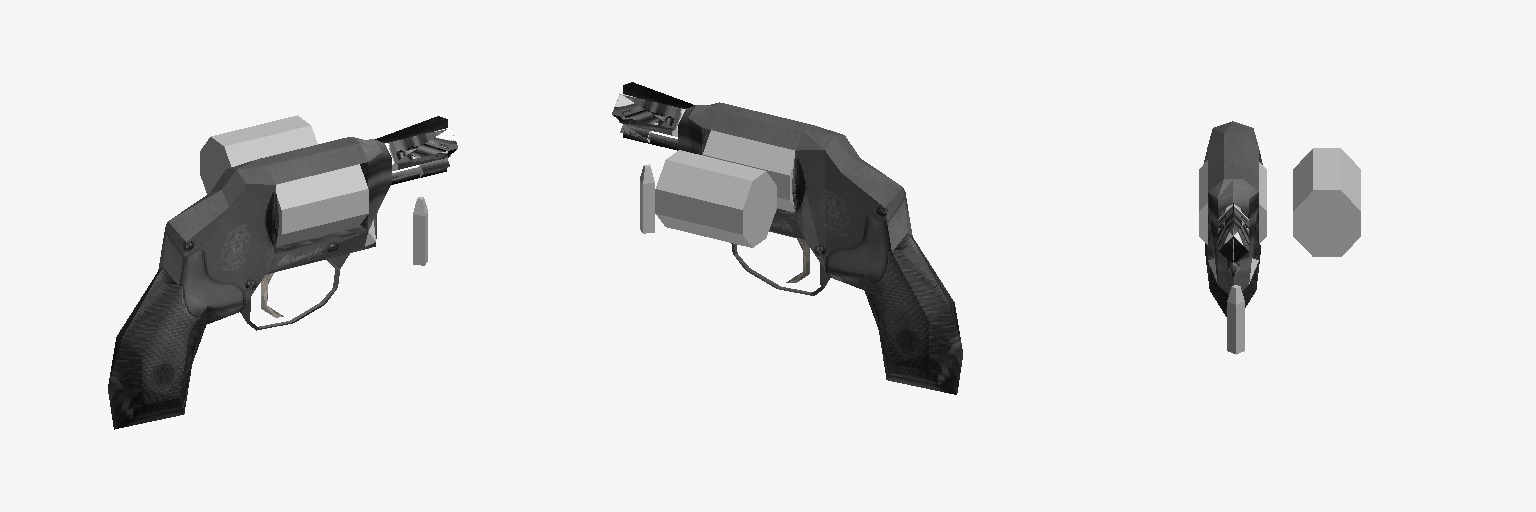
The picture shows the model from 3 angles: view 1: azimuth 30°, elevation 25°; view 2: azimuth 150°, elevation 25°; view 3: azimuth 270°, elevation 25°; orthographic projection.
Parts seen in each view (by area): view 1: HammerlessBody, HammerlessCylinder.001, HammerlessCylinder, Bullet.004; view 2: HammerlessBody, HammerlessCylinder, HammerlessCylinder.001, Bullet.004; view 3: HammerlessBody, HammerlessCylinder, HammerlessCylinder.001, Bullet.004.
Boxes of the visible parts, x1,y1,x2,y2 form: HammerlessBody: [108, 116, 457, 429]; HammerlessCylinder.001: [276, 164, 368, 246]; HammerlessCylinder: [200, 115, 317, 194]; Bullet.004: [413, 197, 427, 265]; HammerlessBody: [612, 82, 962, 394]; HammerlessCylinder: [655, 150, 776, 247]; HammerlessCylinder.001: [703, 130, 794, 211]; Bullet.004: [640, 164, 654, 233]; HammerlessBody: [1204, 121, 1262, 316]; HammerlessCylinder: [1293, 148, 1360, 256]; HammerlessCylinder.001: [1199, 160, 1266, 244]; Bullet.004: [1227, 285, 1244, 354].
Bounding box in the file's own units: 1.9 × 1.25 × 0.7781.
Materials: 4 (1 with a texture image).